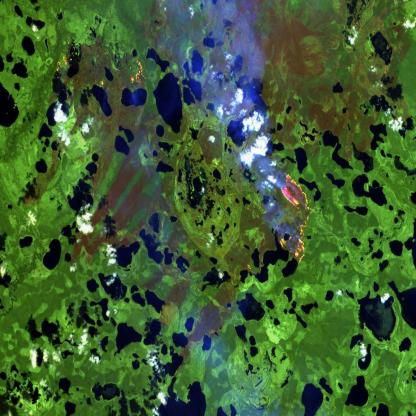fire: (273, 171, 315, 272), (127, 56, 148, 92)
